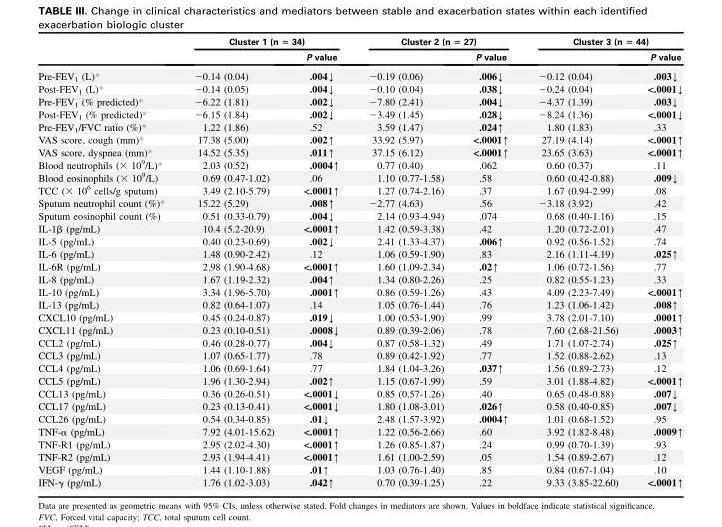table: (37, 37, 682, 487)
table column: (37, 37, 178, 487), (178, 37, 288, 487), (522, 37, 632, 487), (353, 37, 457, 487), (288, 37, 353, 487), (457, 37, 522, 487), (632, 37, 682, 487)
table column header: (37, 37, 682, 66)
table row: (37, 49, 682, 66), (37, 66, 682, 82), (37, 82, 682, 95), (37, 95, 682, 108), (37, 120, 682, 133), (37, 157, 682, 170), (37, 170, 682, 183), (37, 183, 682, 196), (37, 196, 682, 209), (37, 221, 682, 234), (37, 234, 682, 247), (37, 247, 682, 260), (37, 272, 682, 285), (37, 285, 682, 298), (37, 310, 682, 323), (37, 323, 682, 336), (37, 336, 682, 349), (37, 361, 682, 374), (37, 386, 682, 399), (37, 399, 682, 412), (37, 412, 682, 425), (37, 437, 682, 450), (37, 450, 682, 463), (37, 37, 682, 49), (37, 108, 682, 120), (37, 133, 682, 145), (37, 145, 682, 157), (37, 209, 682, 221), (37, 260, 682, 272), (37, 298, 682, 310), (37, 349, 682, 361), (37, 374, 682, 386), (37, 425, 682, 437), (37, 463, 682, 475), (37, 475, 682, 487)
table spanning cell: (178, 37, 353, 49), (353, 37, 522, 49), (522, 37, 682, 49)
